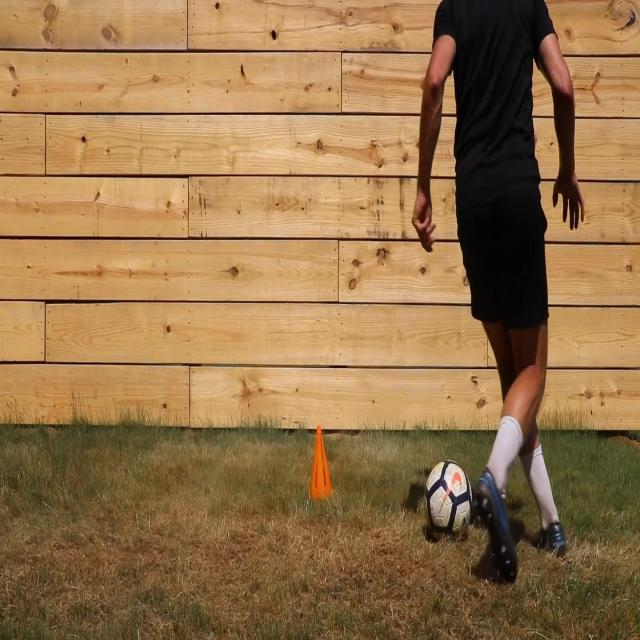Soccer Ball: (423, 460, 472, 546)
